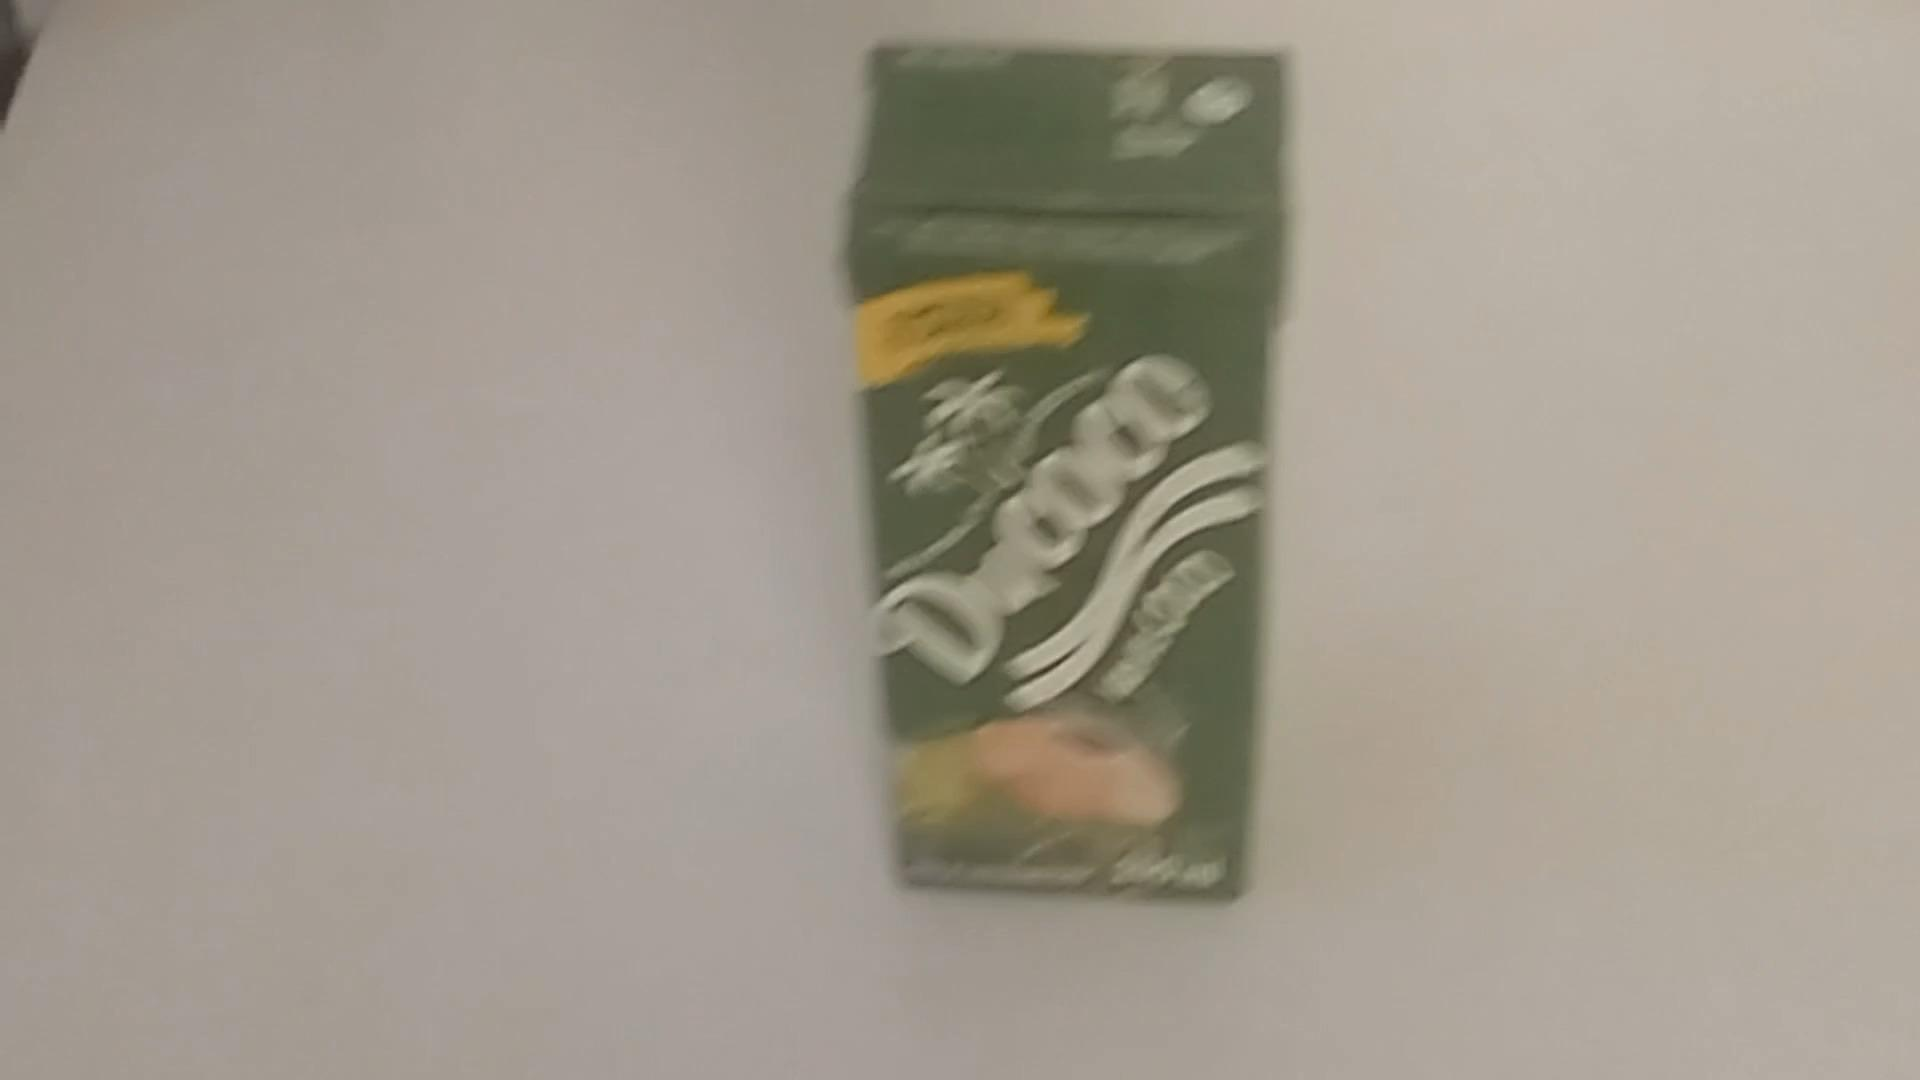coco: (844, 38, 1292, 919)
